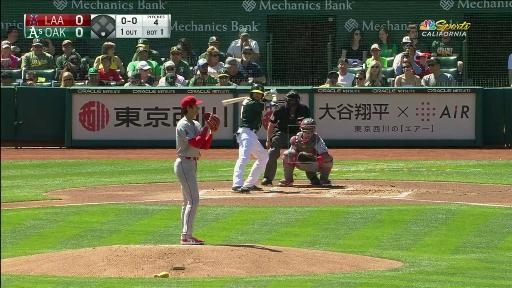pitcher: (174, 95, 220, 245)
